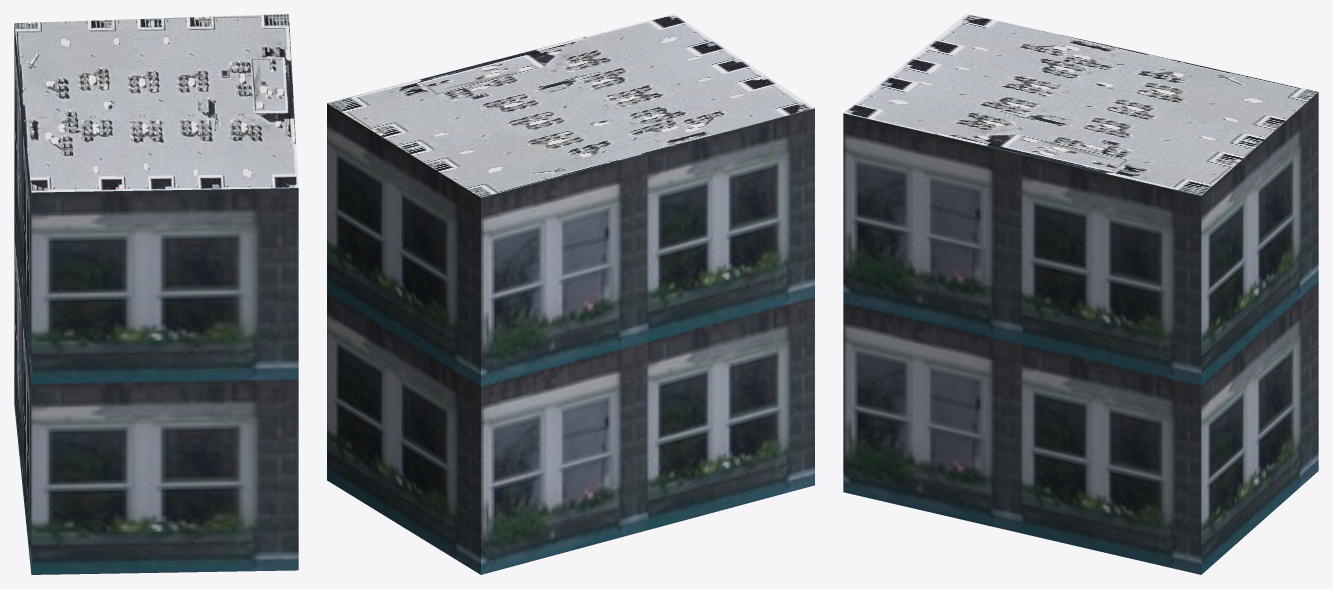
The model's file is ResTex__814.fbx.
3 renders of one model, left to right at view 1: azimuth 30°, elevation 25°; view 2: azimuth 150°, elevation 25°; view 3: azimuth 270°, elevation 25°, orthographic.
Visible parts, largest first — view 1: CityEngineMaterial_11_m, CityEngineMaterial_4_m; view 2: CityEngineMaterial_11_m, CityEngineMaterial_4_m; view 3: CityEngineMaterial_11_m, CityEngineMaterial_4_m.
Part boxes in pixels (<box>): CityEngineMaterial_11_m: <box>14,24,298,574</box>; CityEngineMaterial_4_m: <box>14,14,298,192</box>; CityEngineMaterial_11_m: <box>327,103,814,574</box>; CityEngineMaterial_4_m: <box>327,14,814,197</box>; CityEngineMaterial_11_m: <box>843,92,1318,574</box>; CityEngineMaterial_4_m: <box>843,14,1318,195</box>.
Size of the model in its own units: 6.18 by 6 by 6.82.
Materials: 2 (2 with a texture image).
